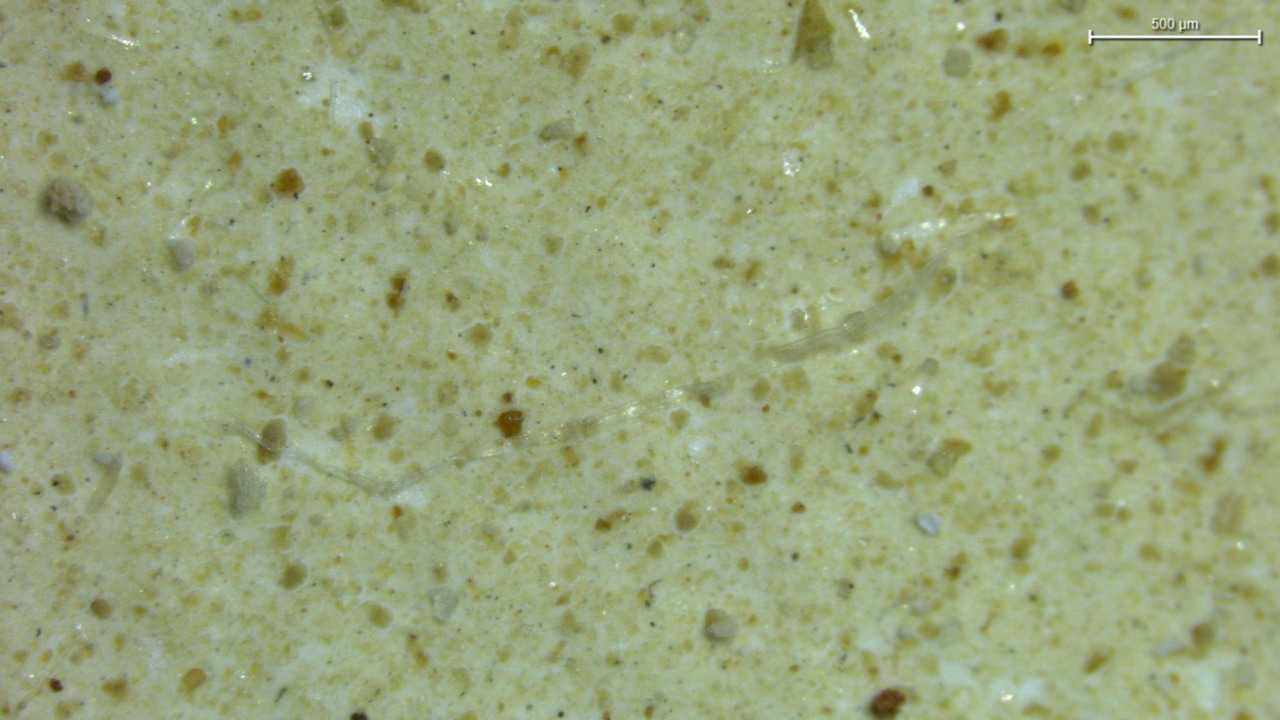microplastic_fragment: (42, 177, 93, 223), (226, 463, 267, 518), (167, 238, 196, 271), (917, 512, 942, 535)
